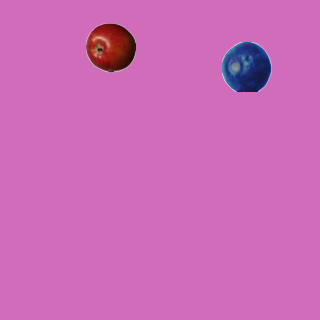Apple Braeburn: (85, 22, 135, 72)
Huckleberry: (221, 41, 271, 91)
